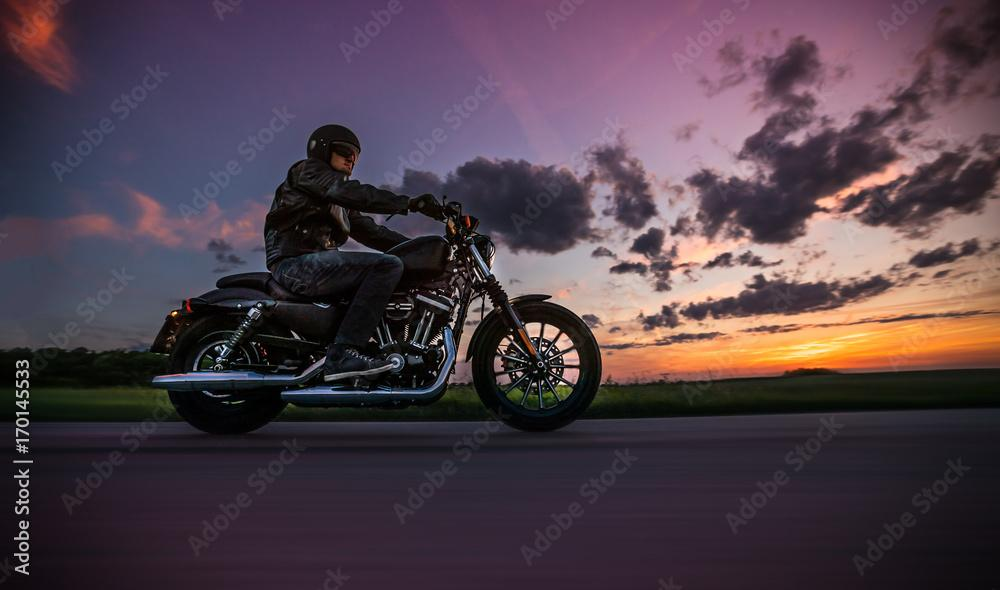helmet: (306, 123, 361, 177)
